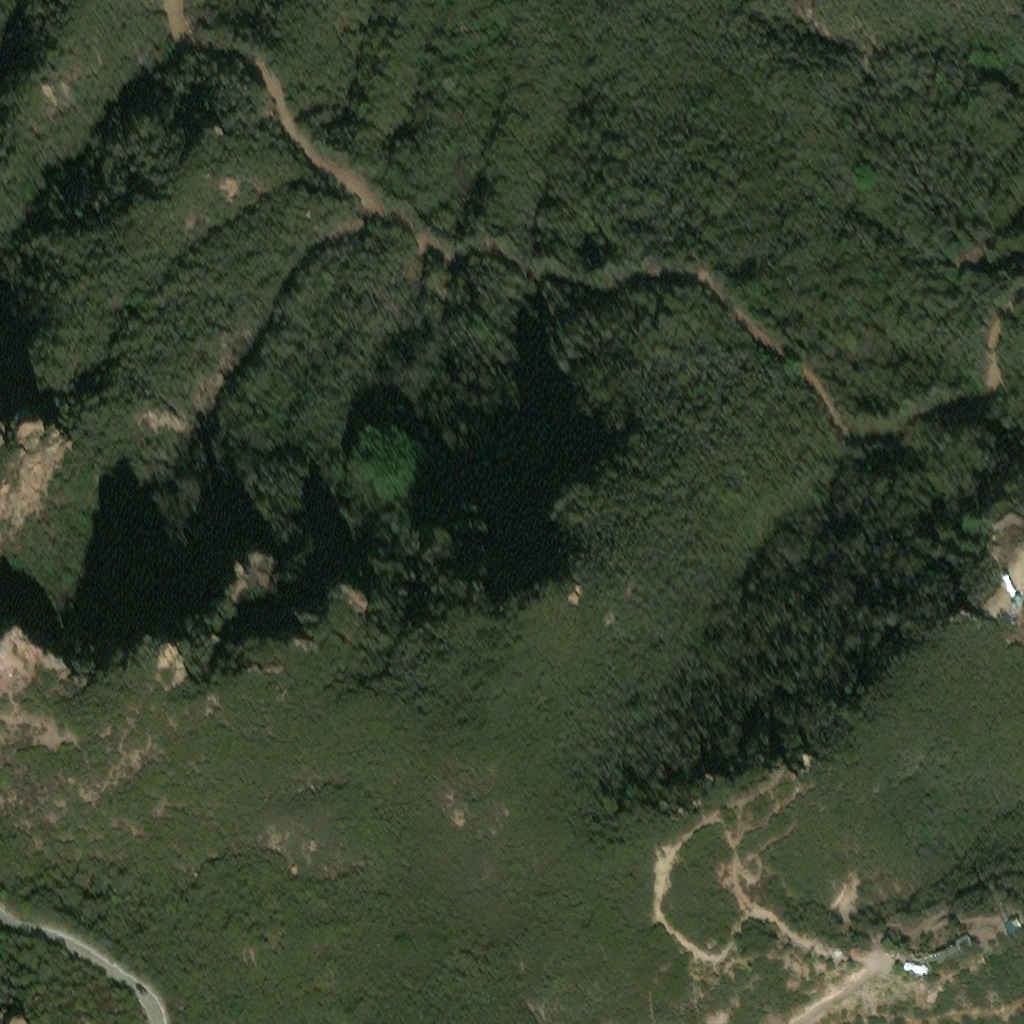0 no-damage: (934, 941, 978, 972), (905, 969, 931, 984), (1008, 929, 1023, 943)
4 un-classified: (798, 760, 820, 788), (1003, 578, 1018, 600), (1012, 607, 1019, 614), (1016, 599, 1023, 606)
